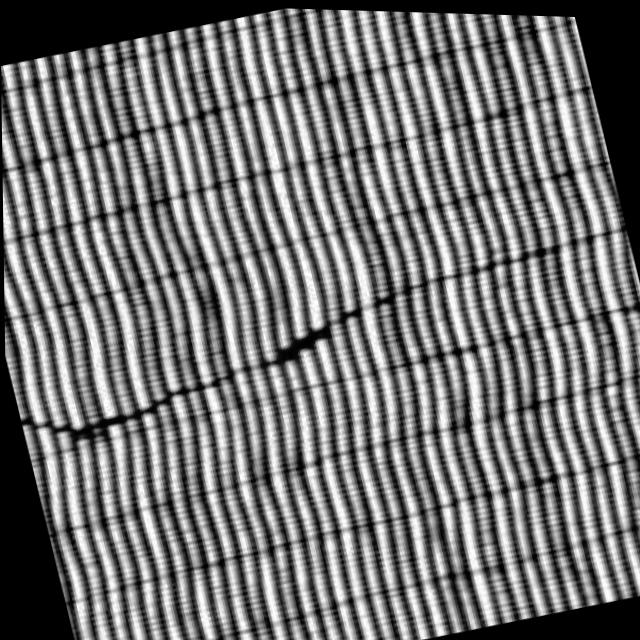Stitch: (3, 226, 475, 492)
